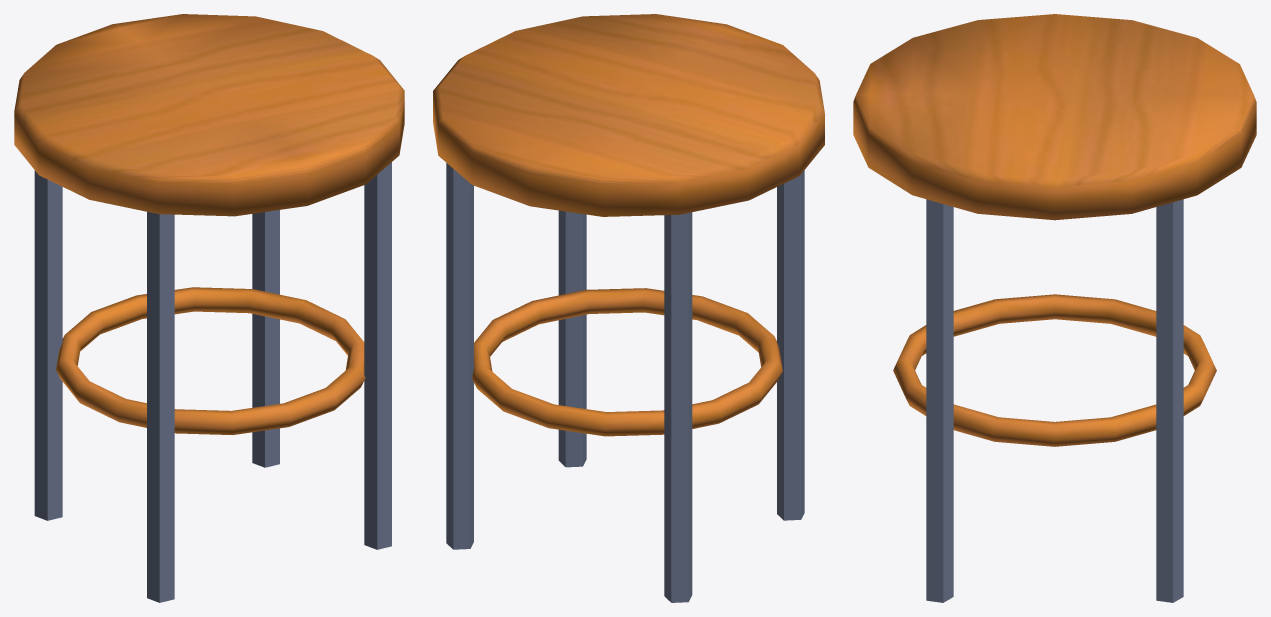
The model's file is Chair4.fbx.
3 views of the same model, side by side, from view 1: azimuth 30°, elevation 25°; view 2: azimuth 150°, elevation 25°; view 3: azimuth 270°, elevation 25° (orthographic). The views are drawn at different scales.
Visible parts, largest first — view 1: Chair4; view 2: Chair4; view 3: Chair4.
Part boxes in pixels (left/top/right/bottom): Chair4: left=14, top=14, right=404, bottom=602; Chair4: left=433, top=14, right=824, bottom=602; Chair4: left=853, top=14, right=1256, bottom=602.
Bounding box in the file's own units: 463 × 463 × 566.
